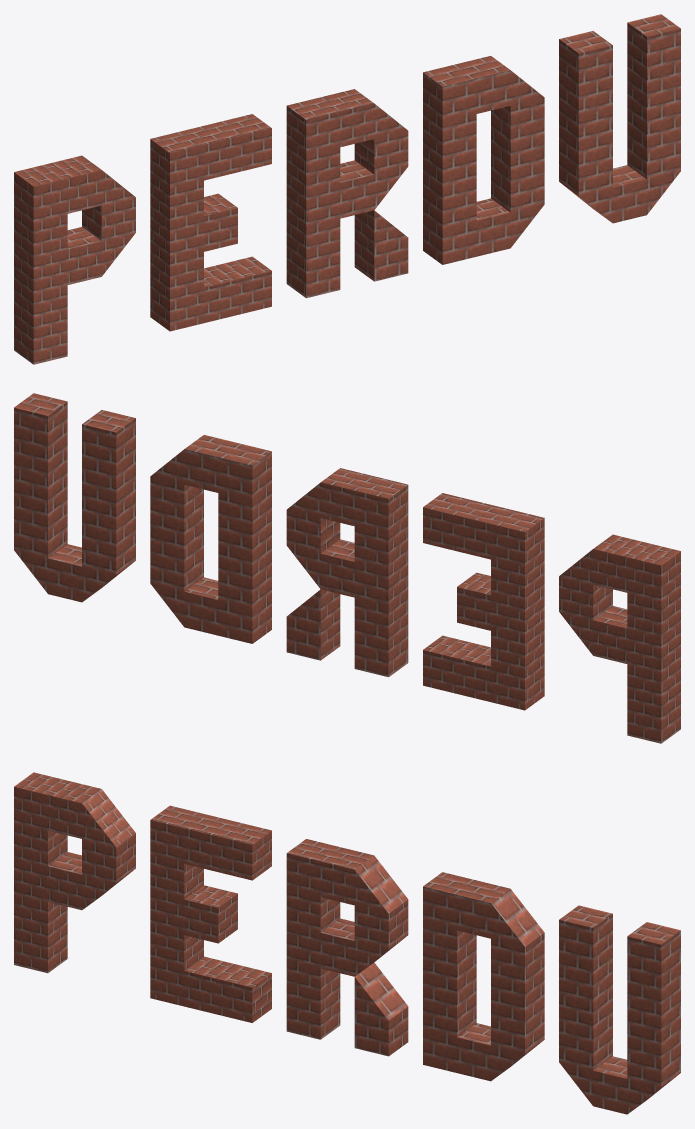
The model's file is perdu.obj.
The picture shows the model from 3 angles, top to bottom: view 1: azimuth 30°, elevation 25°; view 2: azimuth 150°, elevation 25°; view 3: azimuth 330°, elevation 25°; orthographic projection.
Visible parts, largest first — view 1: Cube.003, Cube.002, Cube.004, Cube.001, Cube; view 2: Cube.003, Cube.002, Cube.004, Cube.001, Cube; view 3: Cube.002, Cube.003, Cube.004, Cube.001, Cube.
Boxes of the visible parts, x1,y1,x2,y2 form: Cube.003: (423, 56, 544, 264); Cube.002: (286, 89, 408, 298); Cube.004: (559, 14, 680, 223); Cube.001: (150, 114, 271, 331); Cube: (14, 155, 135, 364); Cube.003: (150, 435, 271, 643); Cube.002: (286, 468, 408, 677); Cube.004: (14, 393, 135, 602); Cube.001: (423, 493, 544, 710); Cube: (559, 534, 680, 743); Cube.002: (286, 839, 408, 1056); Cube.003: (423, 872, 544, 1081); Cube.004: (559, 905, 680, 1114); Cube.001: (150, 805, 271, 1022); Cube: (14, 772, 135, 973).
Size of the model in its own units: 19 by 5 by 1.
Materials: 1 (1 with a texture image).
